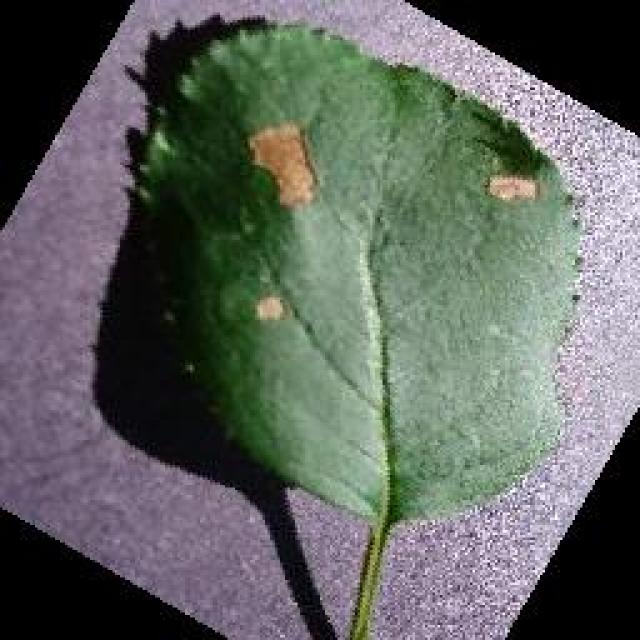black_rot: (239, 114, 335, 216), (475, 168, 549, 214), (248, 287, 295, 330)
